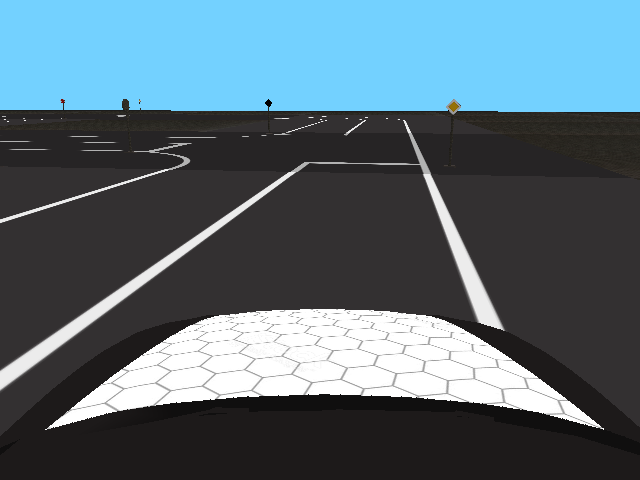yellow_light: (446, 99, 461, 115)
